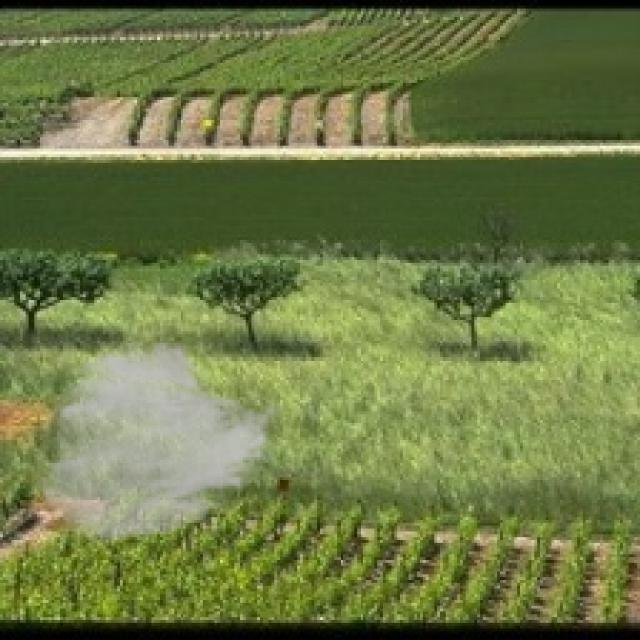smoke: (34, 337, 286, 546)
